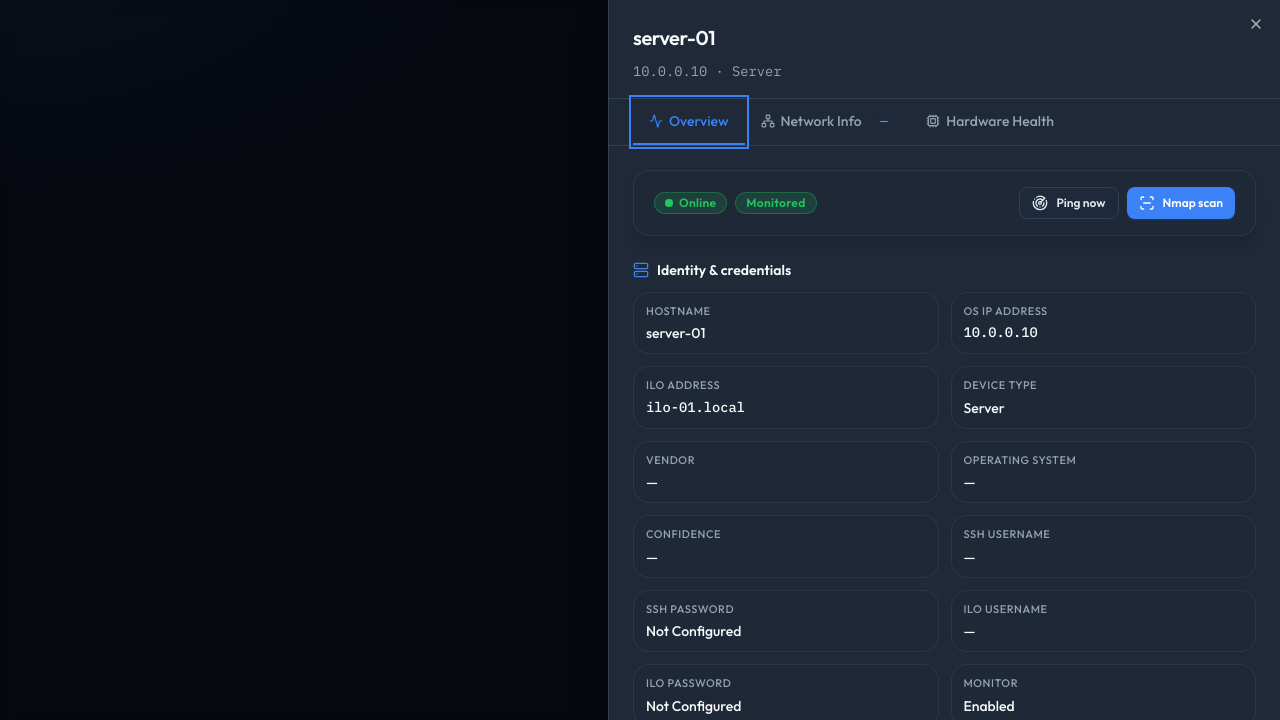
DeviceDrawer - HPE iLO Hardware & Freshness UI › 10. API Error state: renders error state without mislabeling as iLO collection failure
Click the button "Hardware Health": (990, 122) [910,99,1070,145]
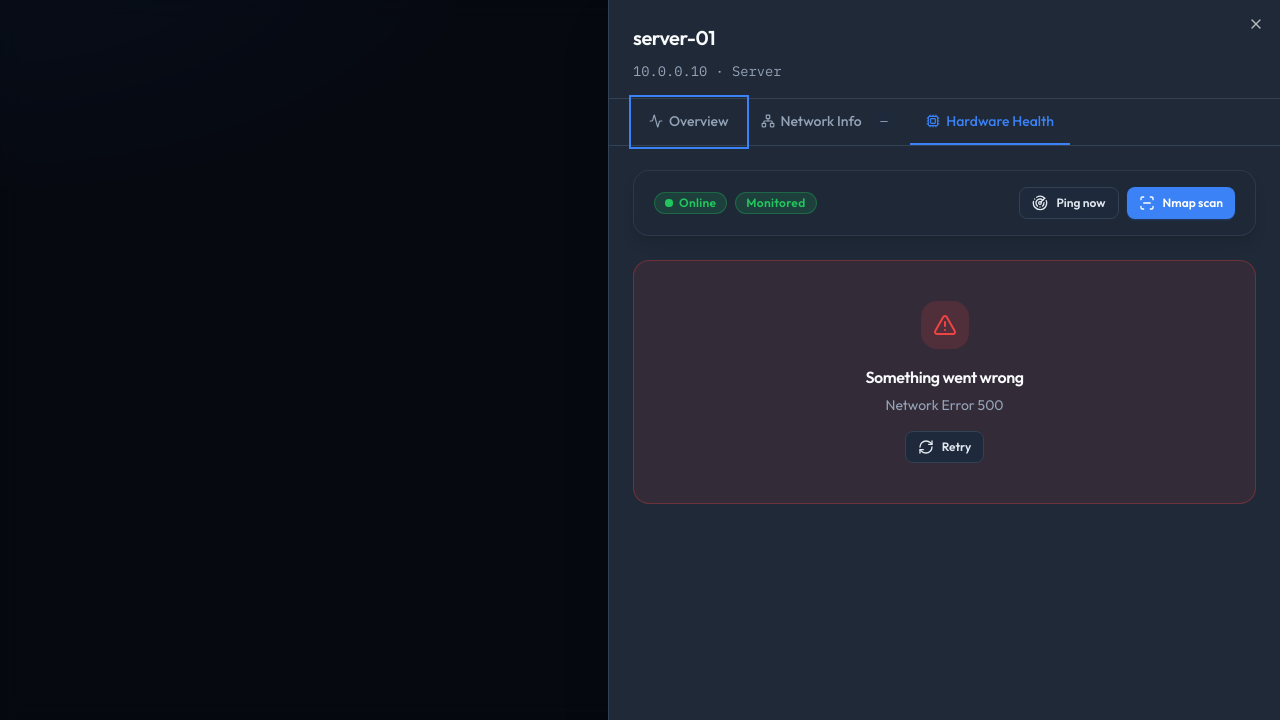
Expected: the text "Network Error 500" is shown, [886,396,1004,414]
